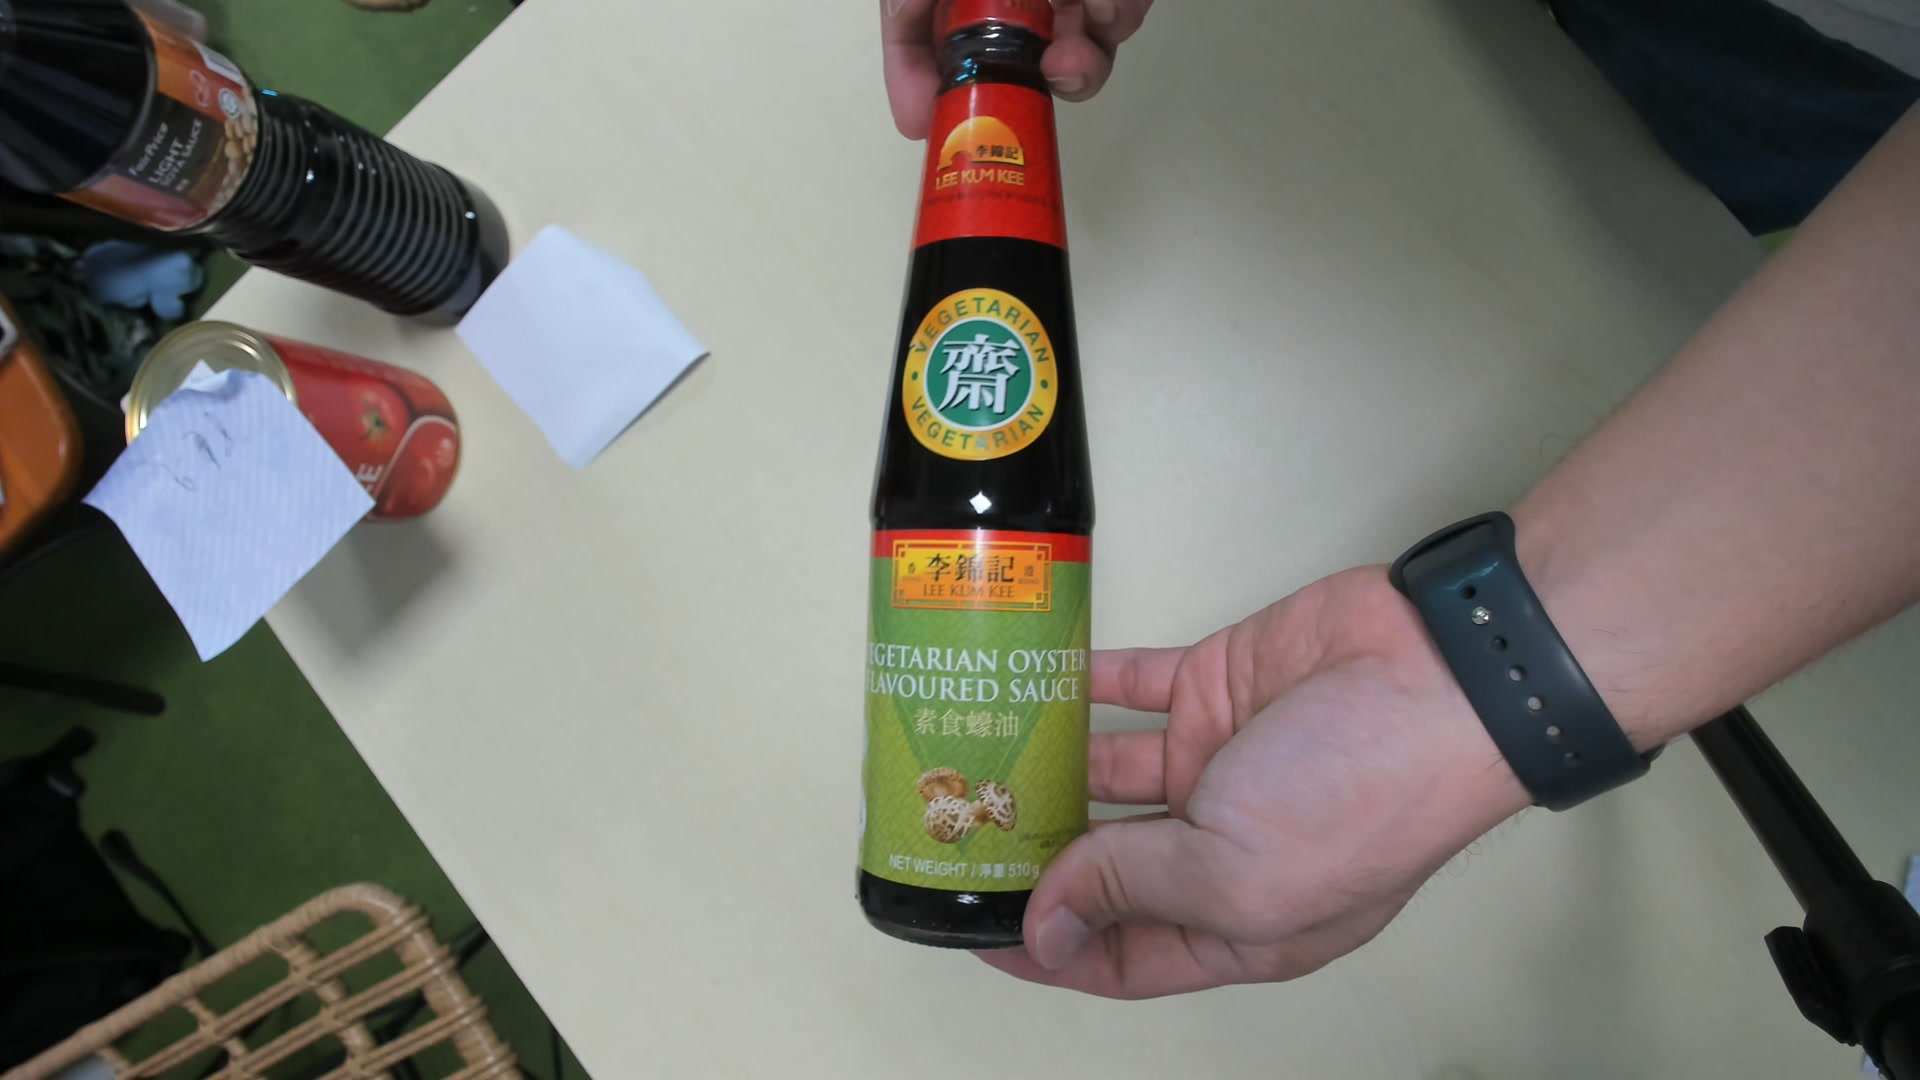OtherSauceDressingSoupbasePaste_500-599g_Halal_Healthy: (862, 3, 1096, 955)
